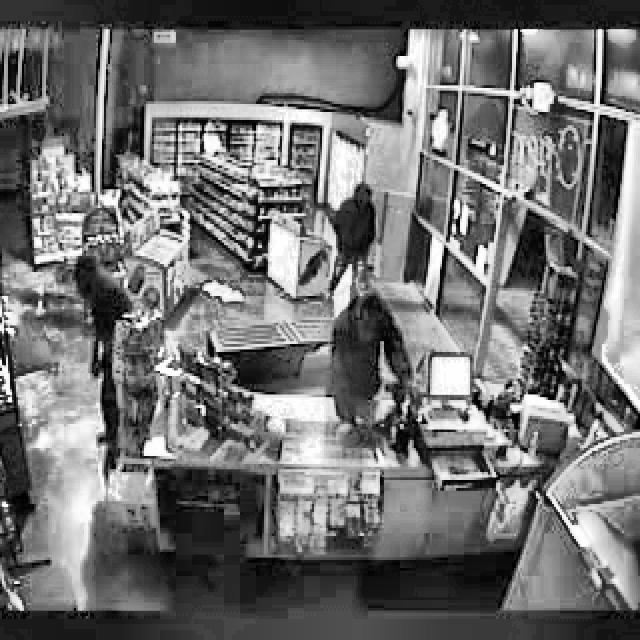burglary: (323, 284, 418, 442), (65, 252, 139, 448), (316, 180, 381, 284)
